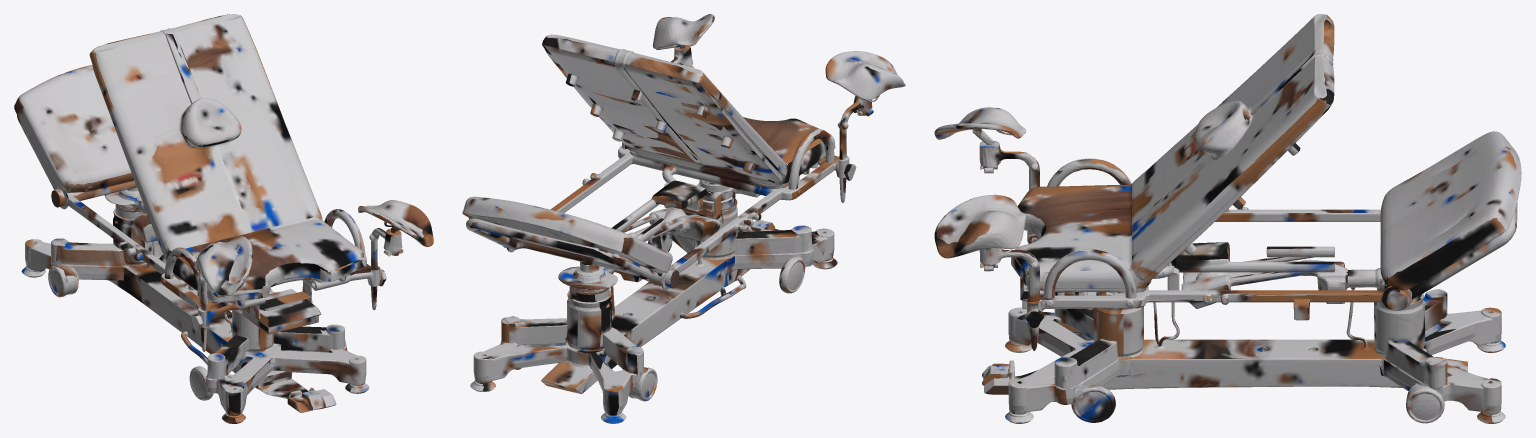
The model's file is Cadeira.obj.
3 views of the same model, side by side, from view 1: azimuth 30°, elevation 25°; view 2: azimuth 150°, elevation 25°; view 3: azimuth 270°, elevation 25° (orthographic). The views are drawn at different scales.
Parts seen in each view (by area): view 1: material; view 2: material; view 3: material.
Boxes of the visible parts, x1,y1,x2,y2 form: material: (14,14,433,423); material: (462,14,905,423); material: (934,14,1521,423).
Size of the model in its own units: 14.57 by 17.49 by 27.87.
